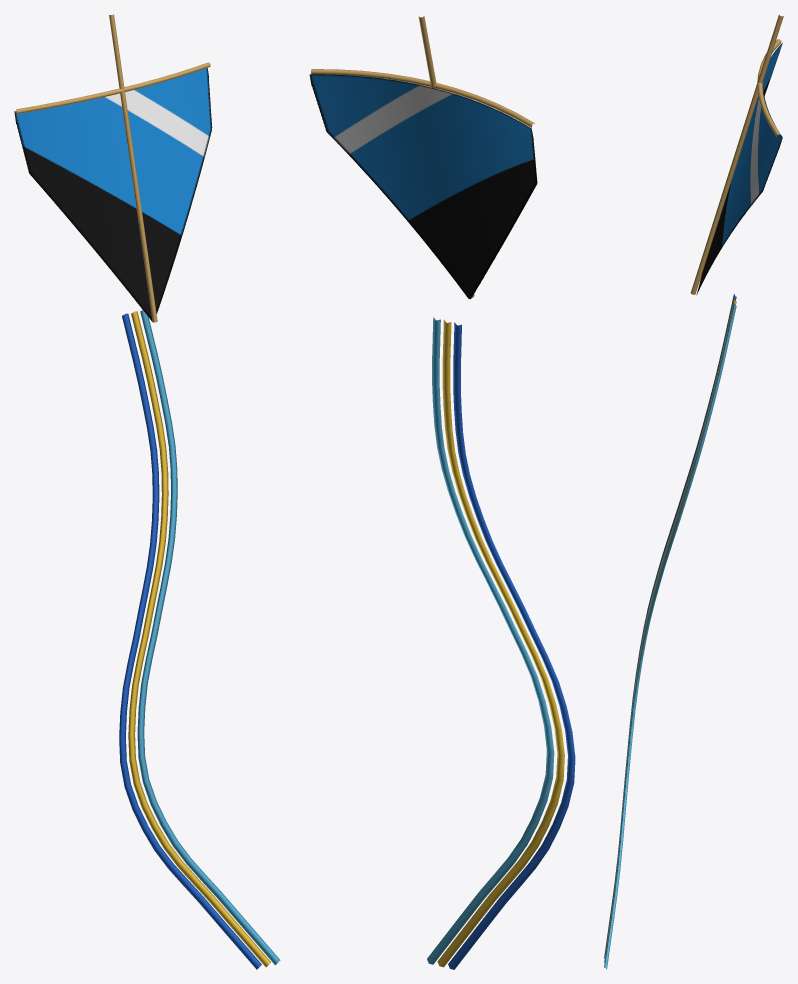
Rendered from bico-3-azulzinha.glb.
3 views of the same model, side by side, from view 1: azimuth 30°, elevation 25°; view 2: azimuth 150°, elevation 25°; view 3: azimuth 270°, elevation 25° (orthographic). The views are drawn at different scales.
Visible parts, largest first — view 1: bico-3-azulzinha; view 2: bico-3-azulzinha; view 3: bico-3-azulzinha.
Part boxes in pixels (box(x1,y1,x2,y2)): bico-3-azulzinha: box(14, 14, 280, 969); bico-3-azulzinha: box(309, 16, 575, 969); bico-3-azulzinha: box(604, 15, 783, 969).
Size of the model in its own units: 1.06 by 4.72 by 0.8386.
5 materials, 1 textured.
